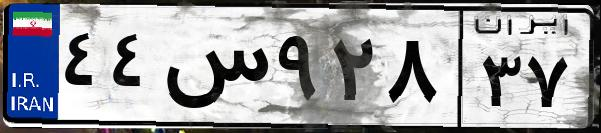2: (330, 28, 385, 110)
3: (475, 38, 525, 113)
4: (57, 26, 110, 100), (110, 28, 158, 98)
7: (525, 38, 570, 115)
8: (385, 28, 445, 110)
9: (270, 28, 330, 110)
س: (158, 20, 270, 120)
